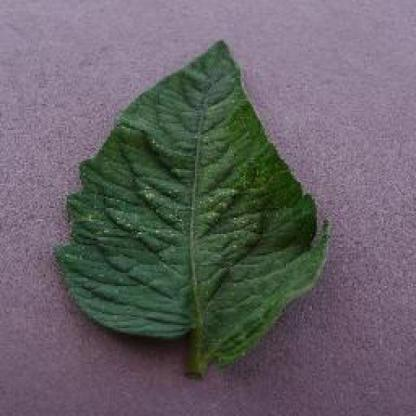Tomato_Spider_Mites: (58, 38, 330, 363)
